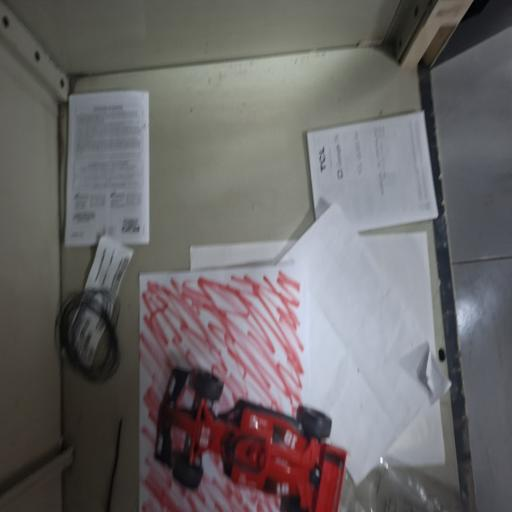carro: (156, 369, 346, 511)
